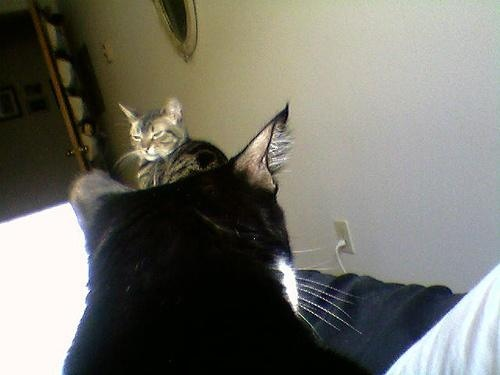cat: (61, 107, 376, 375), (111, 97, 237, 192)
